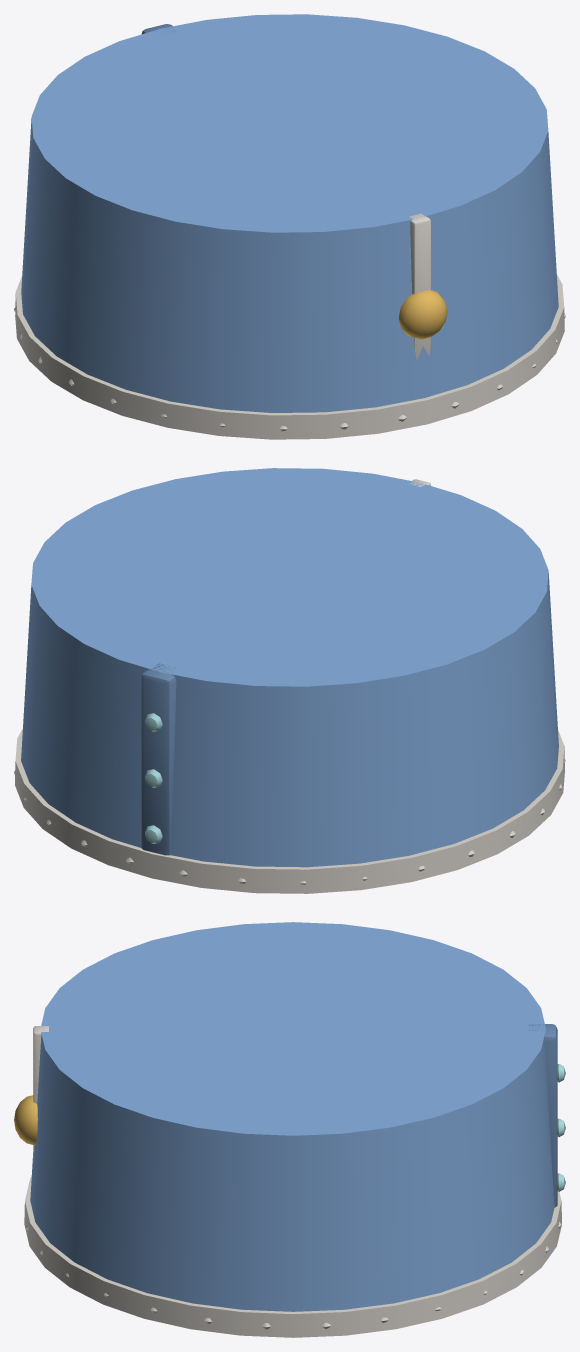
File: Minion_Ring_2.fbx
3 renders of one model, top to bottom at view 1: azimuth 30°, elevation 25°; view 2: azimuth 150°, elevation 25°; view 3: azimuth 270°, elevation 25°, orthographic. The views are drawn at different scales.
Parts seen in each view (by area): view 1: Minion_Ring_2; view 2: Minion_Ring_2; view 3: Minion_Ring_2.
Part boxes in pixels (x1,y1,x2,y2): Minion_Ring_2: [14, 14, 565, 439]; Minion_Ring_2: [14, 468, 565, 893]; Minion_Ring_2: [14, 922, 565, 1337].
Size of the model in its own units: 0.1123 by 0.045 by 0.1153.
